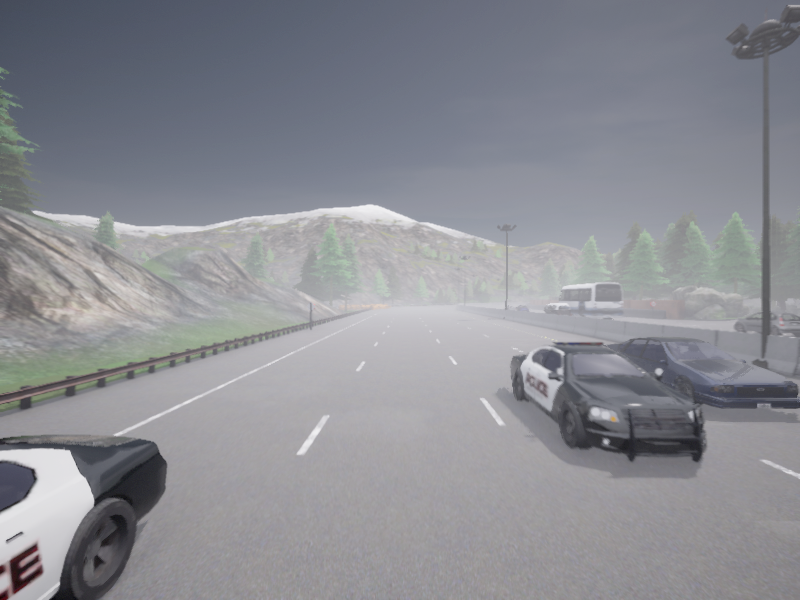vehicle: (0, 434, 167, 599), (509, 341, 706, 461), (602, 336, 799, 408), (555, 283, 623, 319), (734, 312, 799, 336), (544, 303, 571, 315), (516, 305, 527, 311), (503, 305, 515, 309)
